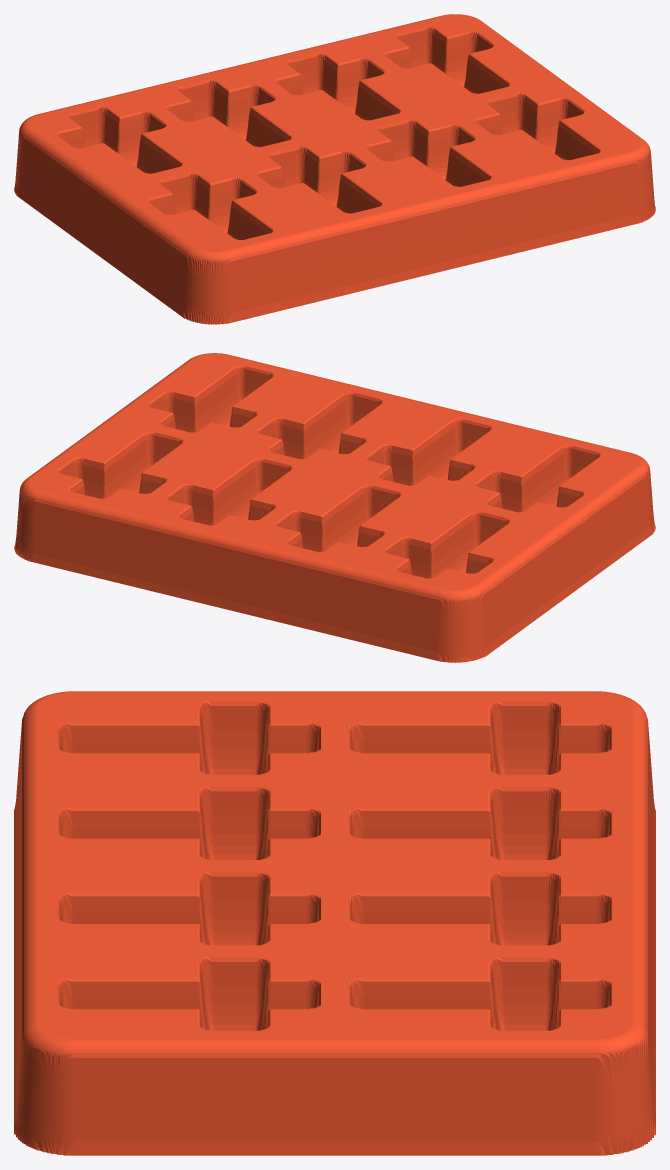
Rendered from mold.glb.
3 renders of one model, top to bottom at view 1: azimuth 30°, elevation 25°; view 2: azimuth 150°, elevation 25°; view 3: azimuth 270°, elevation 25°, orthographic. The views are drawn at different scales.
Parts seen in each view (by area): view 1: geometry_0; view 2: geometry_0; view 3: geometry_0.
Part boxes in pixels (x1,y1,x2,y2): geometry_0: (14, 14, 655, 324); geometry_0: (14, 353, 655, 662); geometry_0: (14, 691, 655, 1155).
Bounding box in the file's own units: 0.1293 × 0.0175 × 0.0956.
